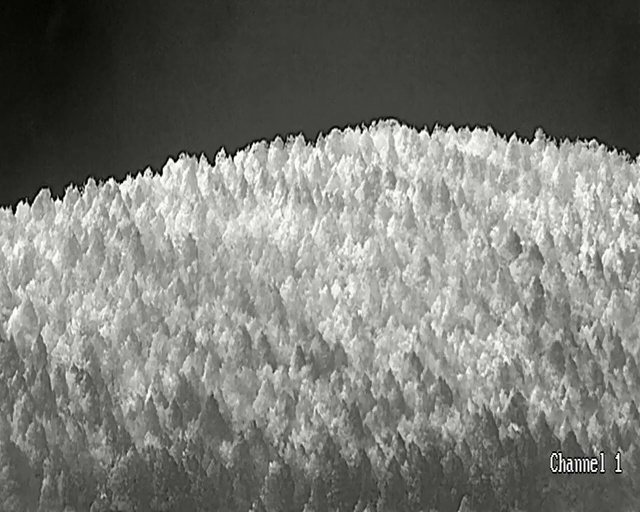uav: (539, 135, 541, 137)
